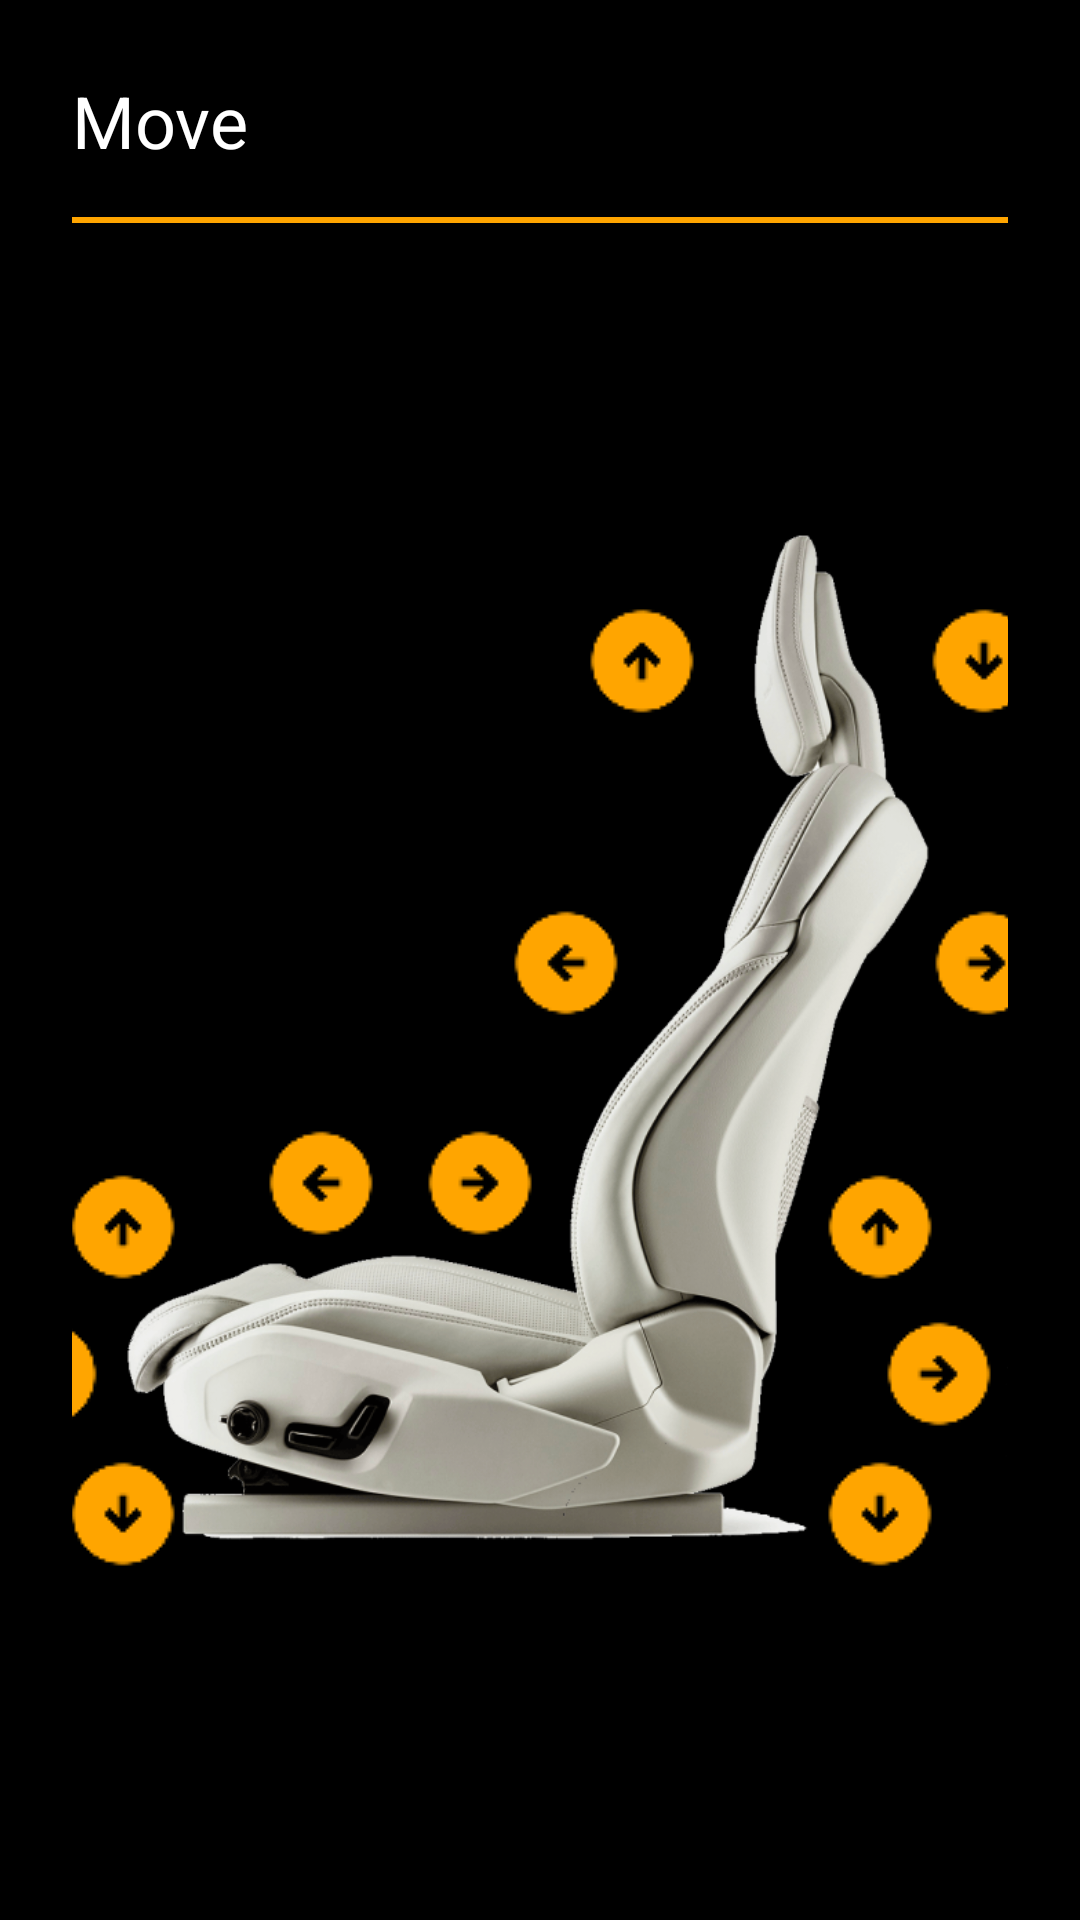

Where icons sit on this 1080px×1920px app screen, as BBox(x1, y1, x2, y2):
arrow down: BBox(932, 609, 1008, 713), BBox(72, 1462, 175, 1566), BBox(828, 1462, 932, 1566)
arrow right: BBox(935, 911, 1008, 1015), BBox(428, 1131, 532, 1235), BBox(887, 1322, 991, 1426)
arrow up: BBox(590, 609, 694, 713), BBox(72, 1175, 175, 1279), BBox(828, 1175, 932, 1279)
